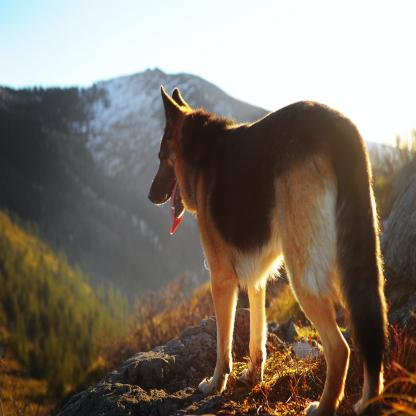german shepherd: (151, 93, 391, 415)
